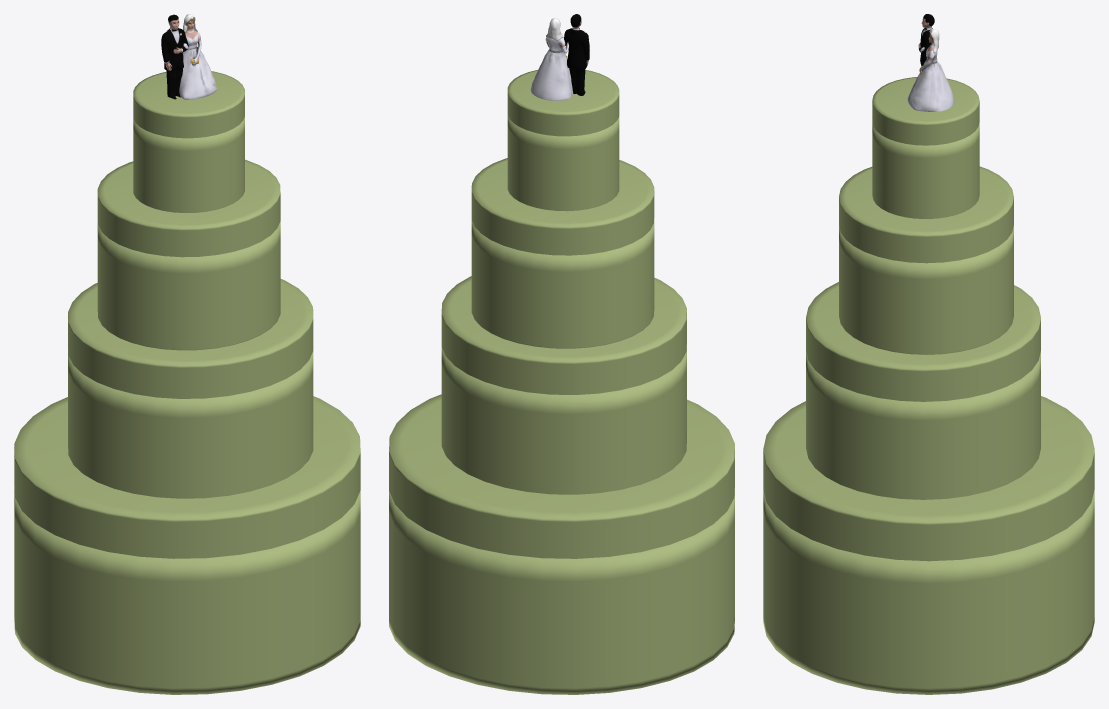
The model's file is 4-tier-pistage-none-bridegroom.glb.
The picture shows the model from 3 angles, left to right: view 1: azimuth 30°, elevation 25°; view 2: azimuth 150°, elevation 25°; view 3: azimuth 270°, elevation 25°; orthographic projection.
Parts seen in each view (by area): view 1: 3.001, 3, 2, 1, 13501_Cake_Topper_Bride_Groom_v1_L1.001; view 2: 3.001, 3, 2, 1, 13501_Cake_Topper_Bride_Groom_v1_L1.001; view 3: 3.001, 3, 2, 1, 13501_Cake_Topper_Bride_Groom_v1_L1.001.
Boxes of the visible parts, box(x1,y1,x2,y2) form: 3.001: box(14, 396, 360, 694); 3: box(68, 279, 313, 498); 2: box(97, 159, 280, 350); 1: box(133, 71, 244, 212); 13501_Cake_Topper_Bride_Groom_v1_L1.001: box(161, 14, 216, 99); 3.001: box(389, 394, 734, 694); 3: box(441, 276, 686, 494); 2: box(471, 158, 654, 348); 1: box(507, 70, 619, 211); 13501_Cake_Topper_Bride_Groom_v1_L1.001: box(530, 14, 589, 100); 3.001: box(763, 396, 1094, 694); 3: box(806, 282, 1040, 499); 2: box(839, 166, 1013, 354); 1: box(872, 77, 979, 218); 13501_Cake_Topper_Bride_Groom_v1_L1.001: box(907, 14, 954, 111).
Bounding box in the file's own units: 4.43 × 8.54 × 4.27.
Materials: 2 (1 with a texture image).
